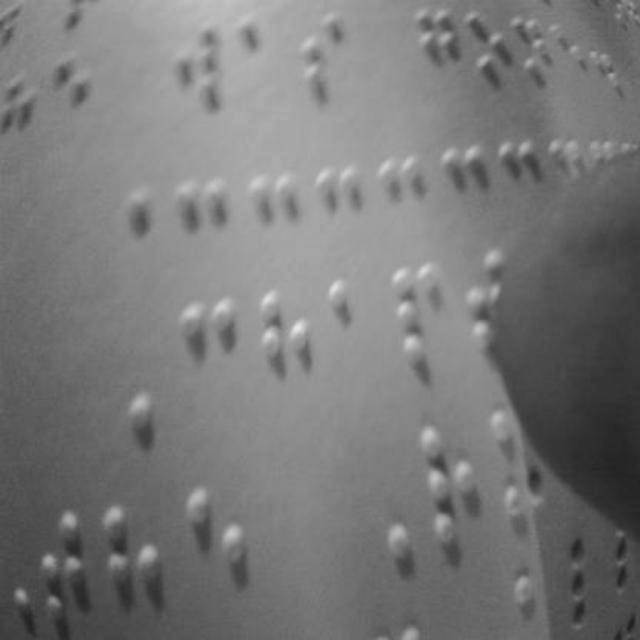braiile: (28, 484, 102, 640), (104, 490, 180, 640), (186, 478, 258, 624), (419, 417, 485, 555), (388, 257, 456, 389), (177, 289, 241, 419), (327, 274, 388, 402), (258, 280, 318, 410), (169, 10, 229, 122), (293, 5, 349, 109), (50, 52, 100, 158), (235, 9, 282, 116), (414, 3, 461, 99), (464, 2, 510, 100)
